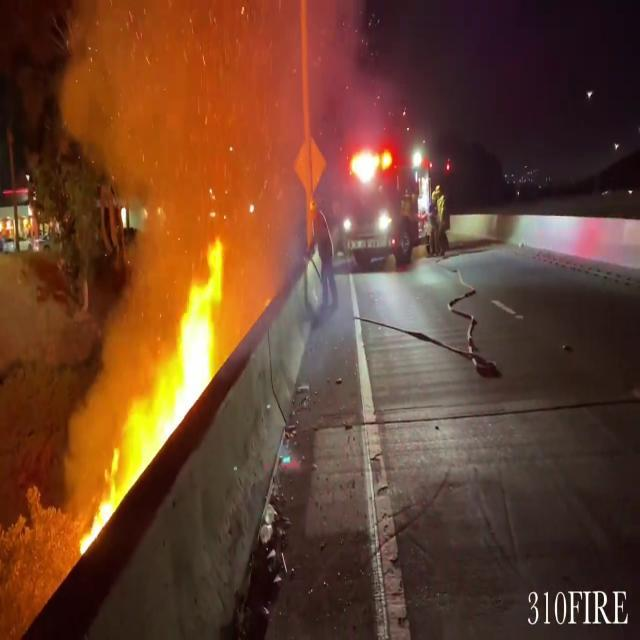Fire: (81, 384, 178, 545), (180, 211, 244, 400)
Smoke: (58, 6, 360, 332)
